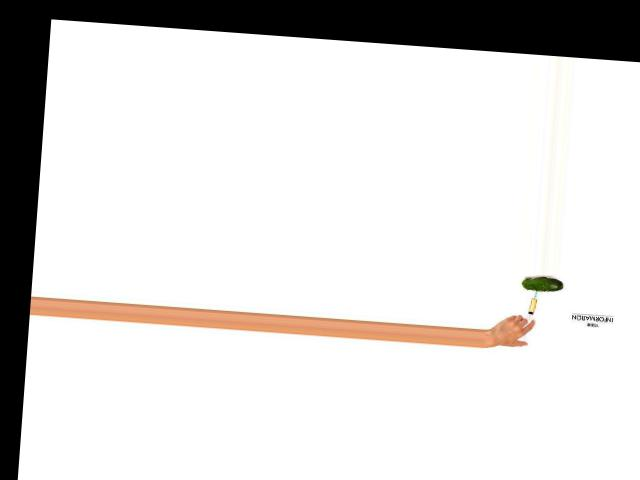cucumber: (520, 276, 563, 292)
